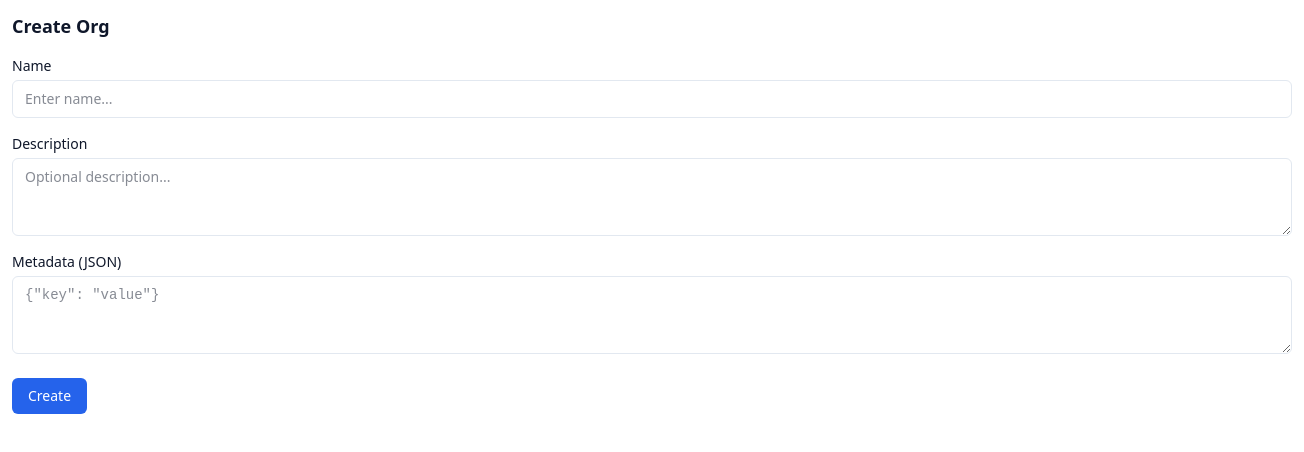
Test: EntityForm › validates required name field
Click the button with test id "entity-submit-btn".
click(50, 396)  # box top-left (12, 378), bottom-right (87, 414)
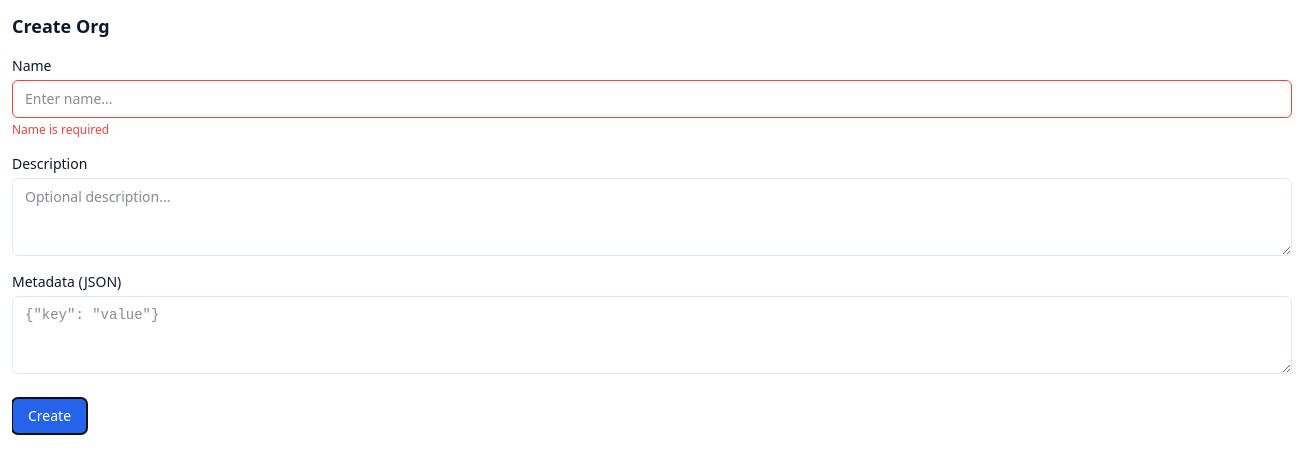
Result: the text with test id "name-error" reads "Name is required" at top-left (12, 121), bottom-right (109, 138)
